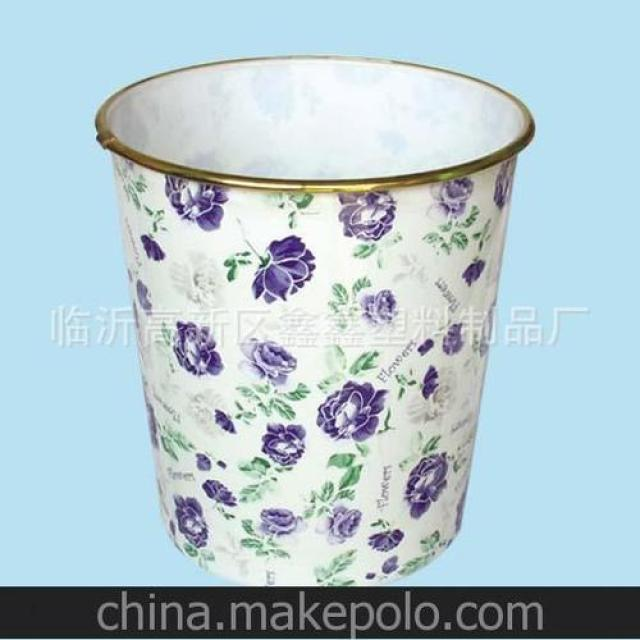dustbin: (89, 46, 541, 586)
